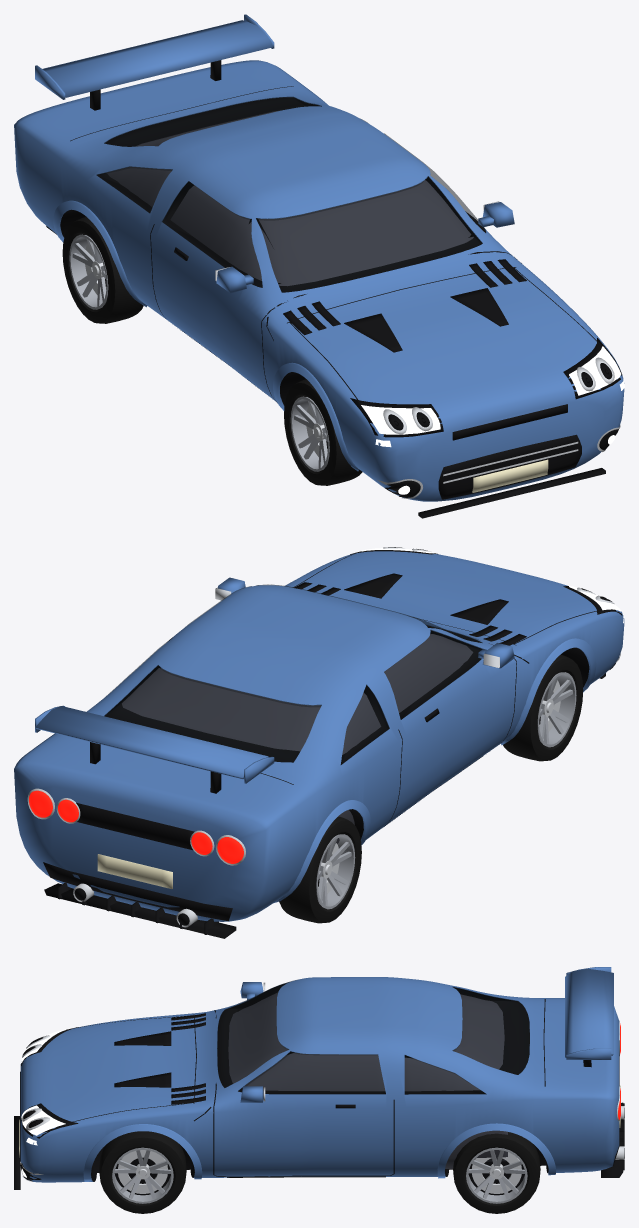
File: gtr.glb
The picture shows the model from 3 angles, top to bottom: view 1: azimuth 30°, elevation 25°; view 2: azimuth 150°, elevation 25°; view 3: azimuth 270°, elevation 25°; orthographic projection. The views are drawn at different scales.
Visible parts, largest first — view 1: body, glass, trim, interior, spoiler, wheel_rl, wheel_fl, lights, mirrors; view 2: body, trim, glass, interior, spoiler, wheel_rl, wheel_fl, lights, mirrors; view 3: body, glass, interior, trim, wheel_fr, wheel_rr, spoiler, lights, mirrors.
Boxes of the visible parts, bbox=[...] form: body: bbox=[14, 60, 624, 501]; glass: bbox=[96, 96, 486, 292]; trim: bbox=[46, 60, 622, 518]; interior: bbox=[106, 110, 473, 286]; spoiler: bbox=[35, 14, 274, 99]; wheel_rl: bbox=[62, 217, 143, 323]; wheel_fl: bbox=[284, 379, 362, 485]; lights: bbox=[361, 346, 624, 494]; mirrors: bbox=[216, 202, 514, 293]; body: bbox=[14, 551, 624, 921]; trim: bbox=[27, 547, 622, 938]; glass: bbox=[104, 584, 482, 764]; interior: bbox=[122, 634, 473, 843]; spoiler: bbox=[35, 705, 274, 783]; wheel_rl: bbox=[279, 816, 361, 923]; wheel_fl: bbox=[503, 654, 583, 761]; lights: bbox=[29, 548, 624, 863]; mirrors: bbox=[217, 577, 514, 668]; body: bbox=[20, 977, 619, 1182]; glass: bbox=[217, 980, 529, 1094]; interior: bbox=[228, 992, 507, 1168]; trim: bbox=[14, 982, 624, 1189]; wheel_fr: bbox=[99, 1131, 186, 1213]; wheel_rr: bbox=[453, 1132, 540, 1213]; spoiler: bbox=[565, 967, 613, 1059]; lights: bbox=[21, 1023, 620, 1177]; mirrors: bbox=[240, 982, 263, 1102].
Size of the model in its own units: 1.98 by 1.35 by 4.61.
